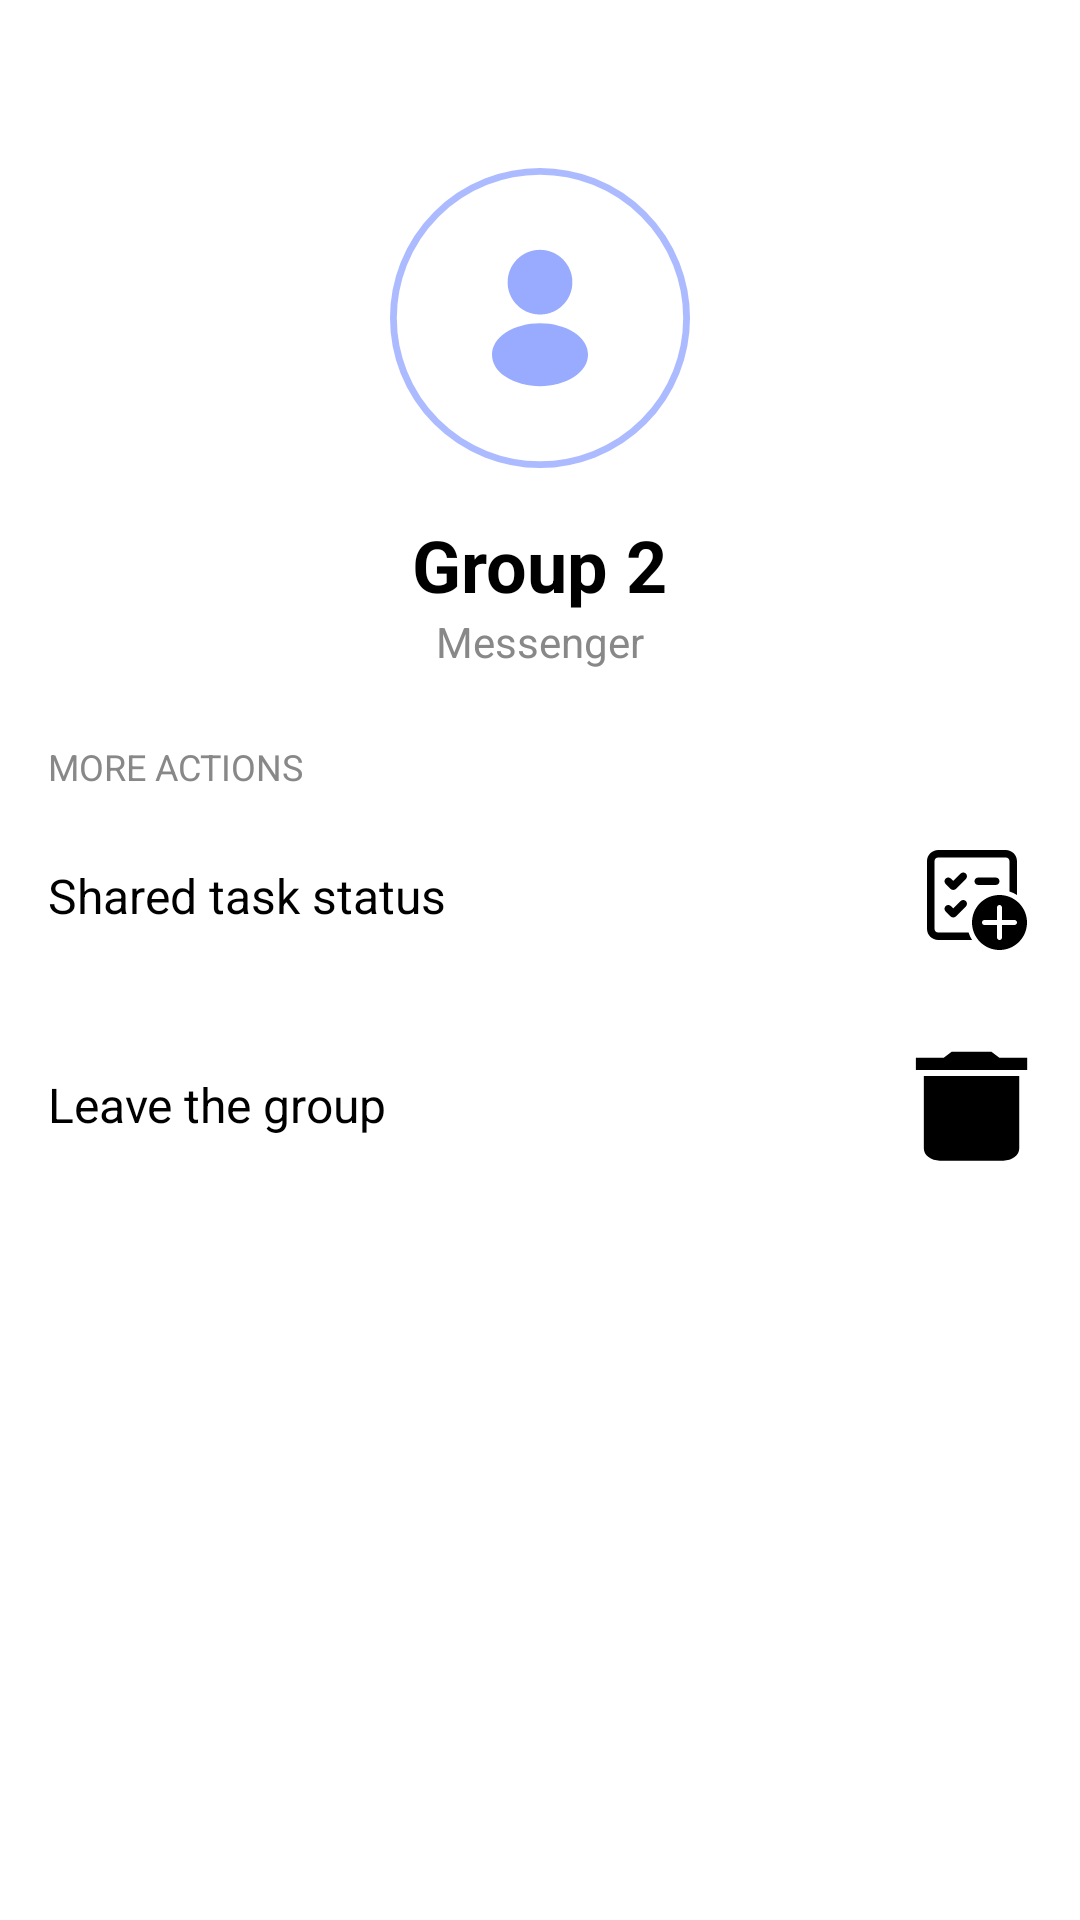

Icon bounding boxes for this 1080 × 1920 phone screenshot, format box(x1, y1, x2, y2):
deleteic: box(915, 1051, 1028, 1161)
Group Profile: box(390, 168, 690, 468)
